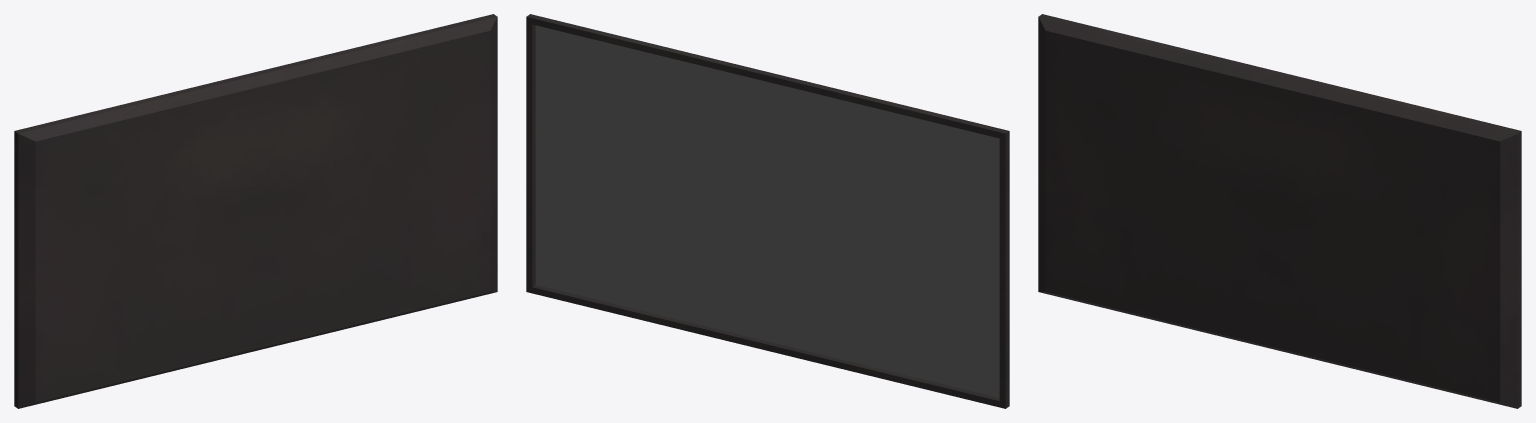
3 renders of one model, left to right at view 1: azimuth 30°, elevation 25°; view 2: azimuth 150°, elevation 25°; view 3: azimuth 330°, elevation 25°, orthographic.
Parts seen in each view (by area): view 1: Plane; view 2: Plane; view 3: Plane.
Boxes of the visible parts, x1,y1,x2,y2 form: Plane: [14, 14, 497, 408]; Plane: [526, 14, 1009, 408]; Plane: [1038, 14, 1521, 408].
Bounding box in the file's own units: 364 × 200 × 11.86.
Materials: 2 (1 with a texture image).
